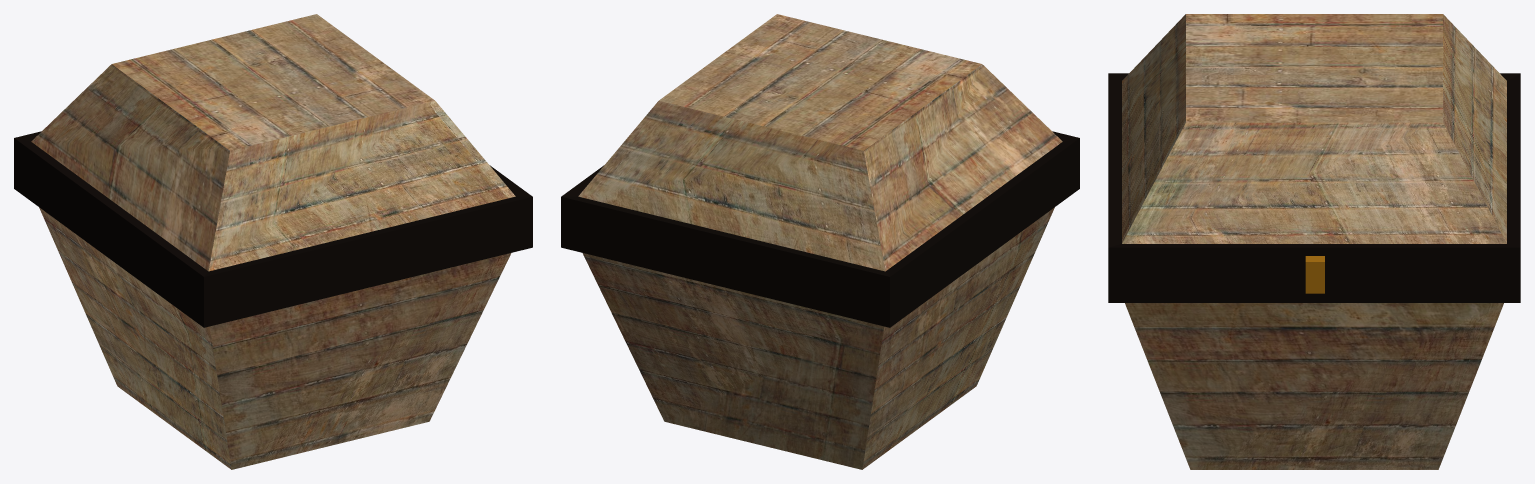
File: treasure_chest_tri.obj
3 renders of one model, left to right at view 1: azimuth 30°, elevation 25°; view 2: azimuth 150°, elevation 25°; view 3: azimuth 270°, elevation 25°, orthographic. The views are drawn at different scales.
Parts seen in each view (by area): view 1: chest; view 2: chest; view 3: chest.
Part boxes in pixels (x1=…): chest: x1=14, y1=14, x2=532, y2=469; chest: x1=561, y1=14, x2=1079, y2=469; chest: x1=1108, y1=14, x2=1520, y2=469.
Size of the model in its own units: 2.21 by 2 by 2.14.
